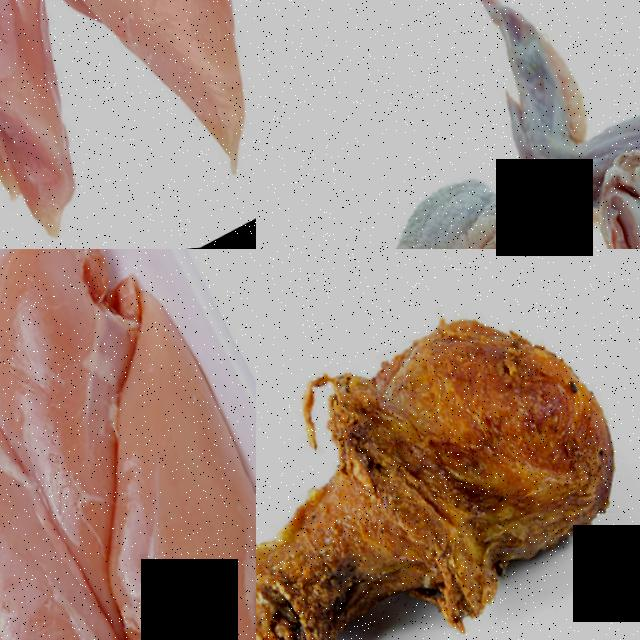chicken breast: (0, 0, 256, 222), (56, 387, 256, 640), (0, 0, 141, 249), (0, 446, 179, 640), (0, 249, 151, 434), (77, 0, 256, 94)
chicken thigh: (256, 252, 640, 640)
chicken wing: (443, 0, 640, 249), (256, 149, 607, 249)
